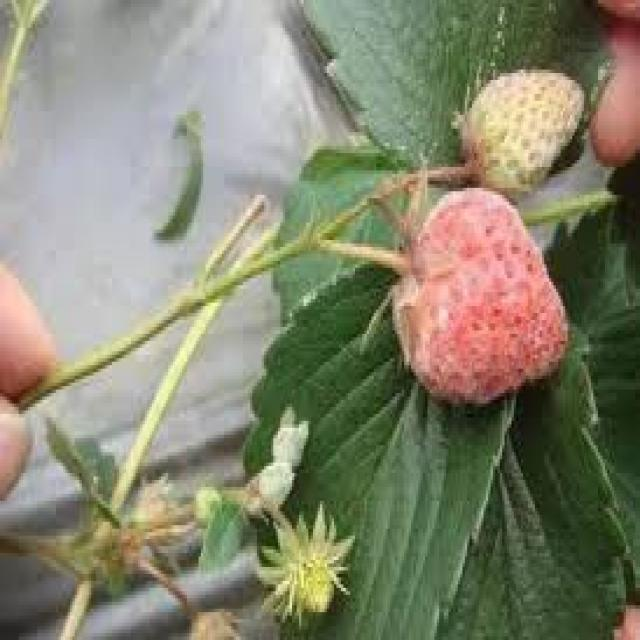Oído: (395, 190, 570, 422), (456, 44, 588, 184)
